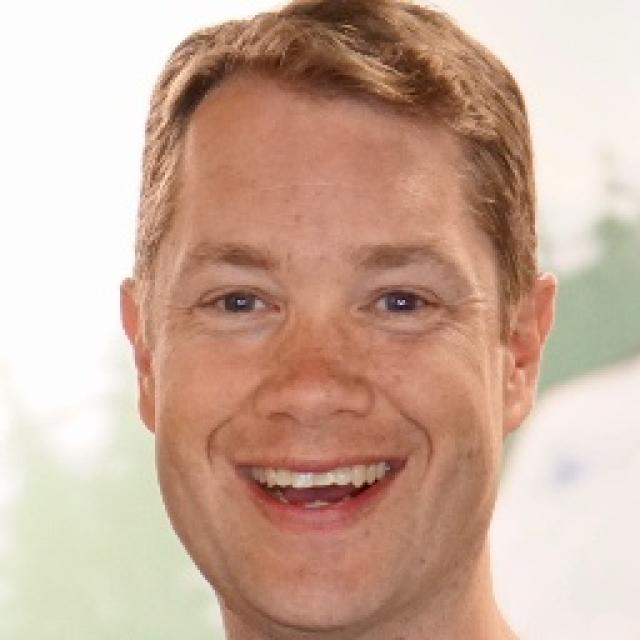earlobe: (498, 376, 536, 436), (136, 368, 159, 434)
eye: (204, 288, 279, 317), (364, 288, 438, 317)
nose: (251, 405, 375, 459)
wholeear: (499, 272, 558, 436), (118, 276, 158, 434)
